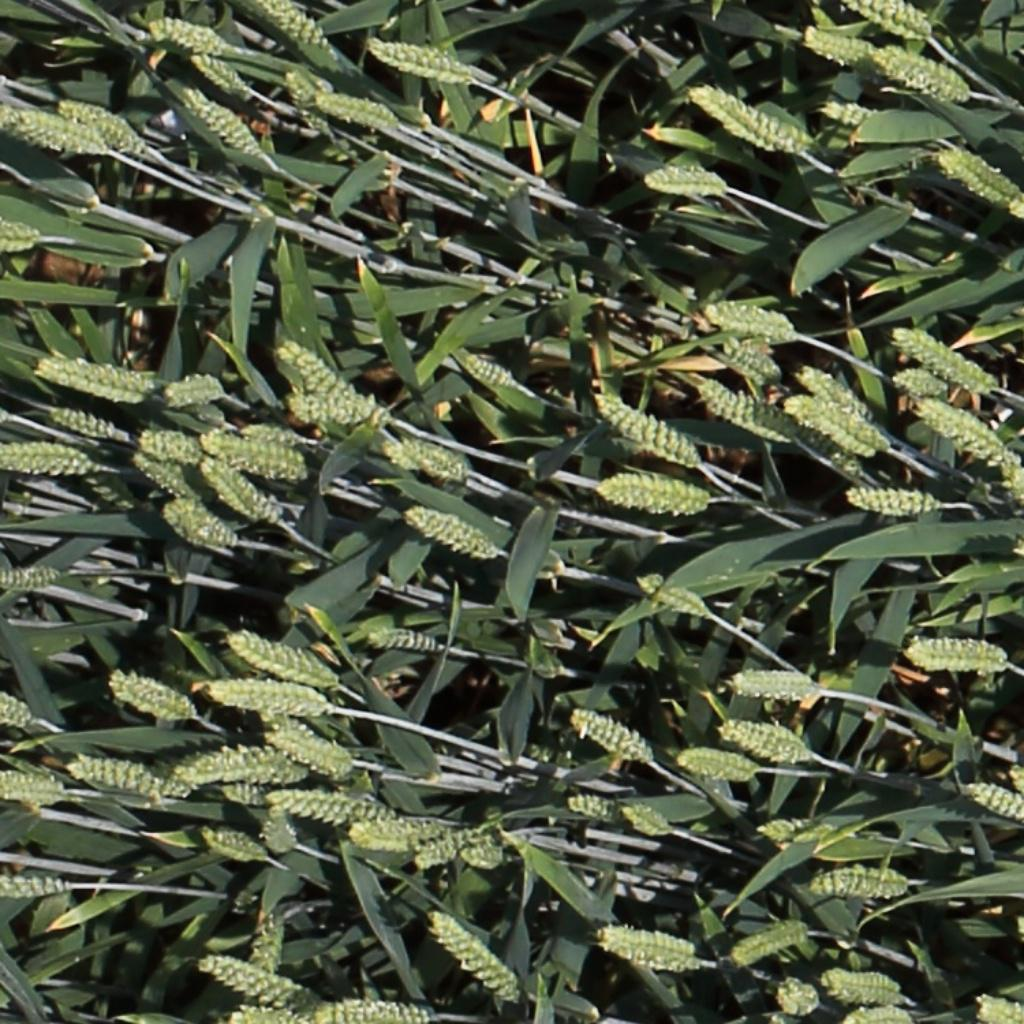0-0: (420, 907, 521, 1003), (591, 390, 697, 466), (274, 338, 371, 412), (223, 632, 341, 691), (690, 87, 797, 148), (694, 378, 794, 442), (196, 454, 283, 526), (892, 326, 989, 390), (193, 955, 308, 1008), (872, 43, 971, 104), (260, 712, 351, 777), (57, 93, 149, 155), (917, 402, 1011, 461), (783, 395, 882, 451), (66, 753, 184, 799), (177, 86, 259, 152), (363, 40, 473, 87), (783, 406, 861, 472), (200, 432, 304, 481), (5, 107, 105, 156), (594, 920, 692, 970), (202, 676, 324, 716), (591, 474, 710, 515), (172, 747, 309, 782), (402, 507, 494, 559), (567, 708, 652, 764), (34, 359, 150, 400), (795, 364, 875, 423), (268, 791, 400, 825), (275, 60, 331, 137), (903, 633, 1001, 676), (936, 148, 1014, 202), (105, 673, 193, 719), (258, 0, 330, 54), (720, 722, 809, 764), (128, 450, 193, 505), (159, 499, 229, 547), (700, 301, 793, 337), (634, 577, 709, 621), (309, 90, 395, 128), (756, 812, 851, 846), (730, 922, 806, 963), (45, 405, 128, 442), (144, 16, 225, 53), (410, 827, 478, 871), (849, 0, 928, 36), (718, 335, 778, 382), (814, 94, 885, 133), (963, 785, 1024, 830), (640, 165, 728, 195), (727, 670, 817, 699), (843, 484, 935, 512), (346, 824, 443, 850), (398, 441, 464, 479), (808, 872, 908, 897), (248, 905, 279, 983), (197, 831, 266, 865), (135, 431, 204, 465), (801, 28, 873, 60), (189, 51, 243, 92), (286, 397, 376, 421), (457, 350, 512, 389), (259, 797, 294, 858), (307, 1004, 425, 1022), (821, 972, 899, 999), (673, 755, 757, 780), (238, 418, 305, 449), (0, 221, 59, 255), (158, 373, 225, 402), (0, 771, 61, 802), (364, 628, 439, 653), (618, 804, 671, 838), (563, 795, 621, 826), (774, 976, 817, 1015), (0, 870, 61, 897), (379, 438, 424, 472), (461, 837, 502, 870), (894, 370, 948, 395), (0, 692, 34, 729), (843, 1006, 912, 1024), (228, 1007, 299, 1024), (0, 569, 58, 588)
